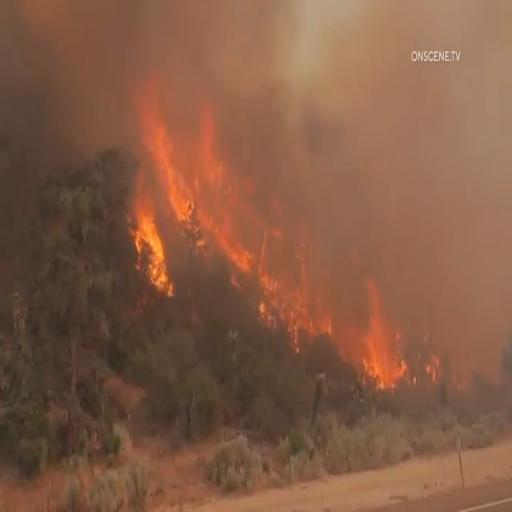fire: (187, 173, 302, 316), (310, 284, 421, 384), (96, 171, 161, 305), (150, 119, 201, 237)
smoke: (304, 95, 507, 292), (103, 12, 392, 125)
